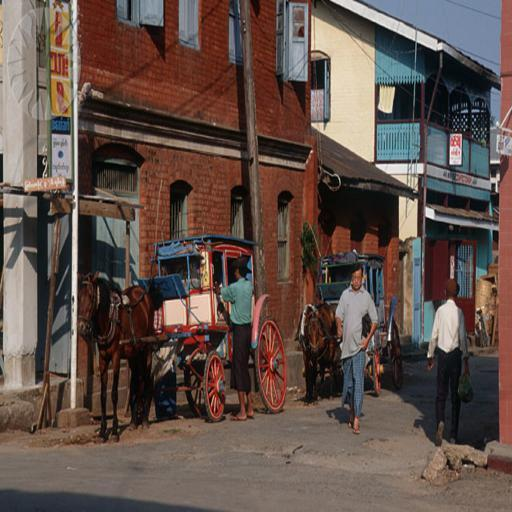horse: (76, 277, 160, 444), (296, 296, 340, 402)
